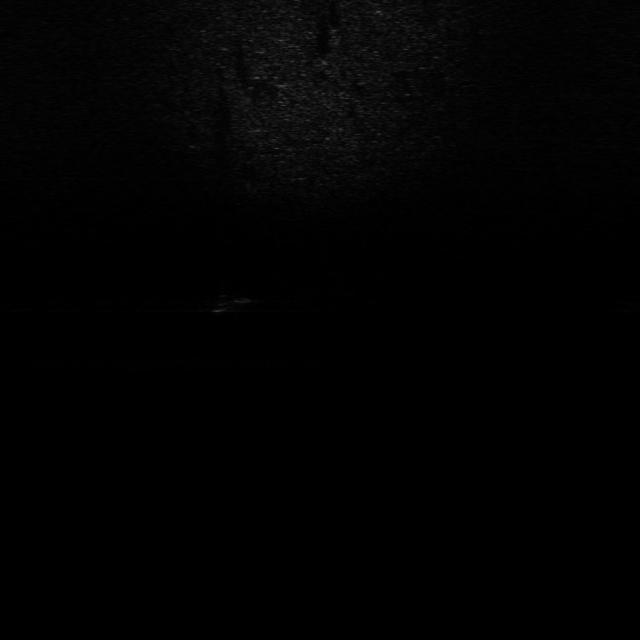human body: (203, 286, 264, 320)
